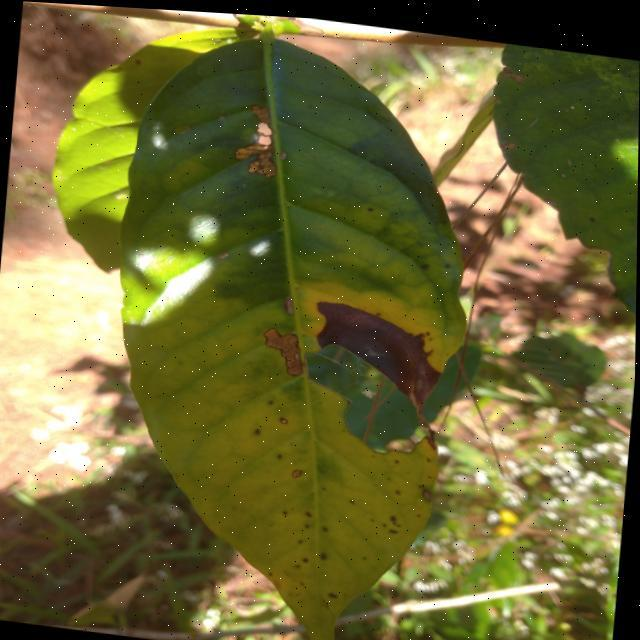leaves: (99, 16, 496, 640)
